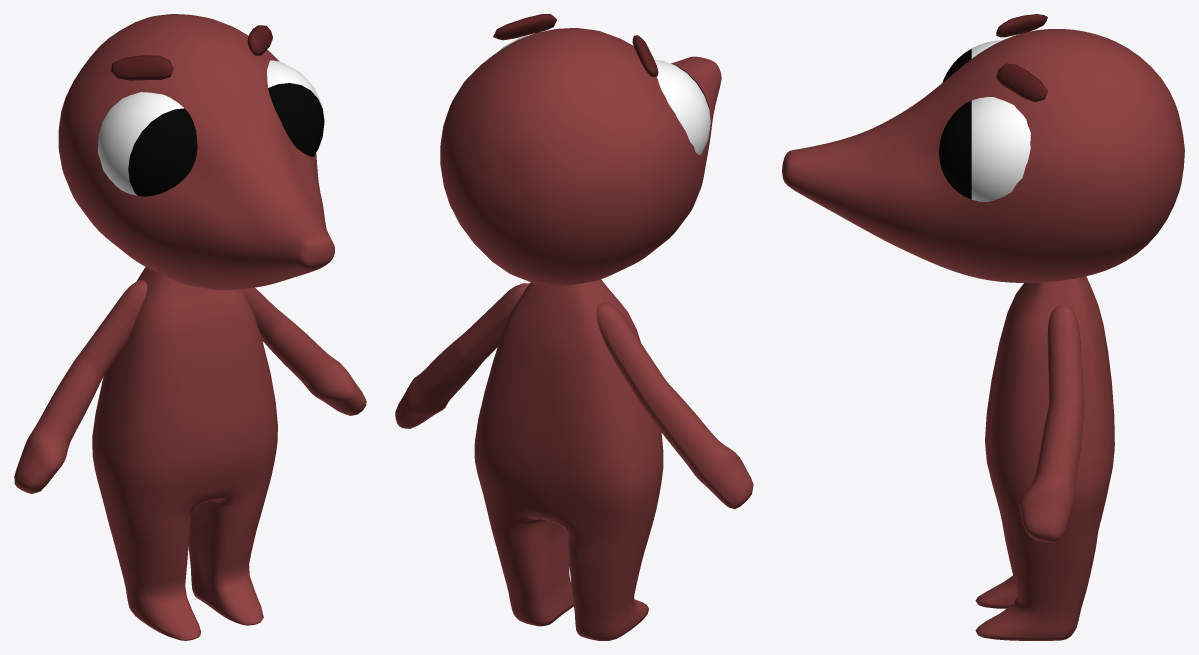
File: bipple-test.glb
3 renders of one model, left to right at view 1: azimuth 30°, elevation 25°; view 2: azimuth 150°, elevation 25°; view 3: azimuth 270°, elevation 25°, orthographic.
Visible parts, largest first — view 1: Bipple; view 2: Bipple; view 3: Bipple.
Part boxes in pixels (box(x1,y1,x2,y2)): Bipple: box(14, 14, 366, 640); Bipple: box(395, 14, 753, 640); Bipple: box(782, 14, 1184, 640).
Size of the model in its own units: 0.6183 by 0.9935 by 0.6246.
Materials: 1 (1 with a texture image).
